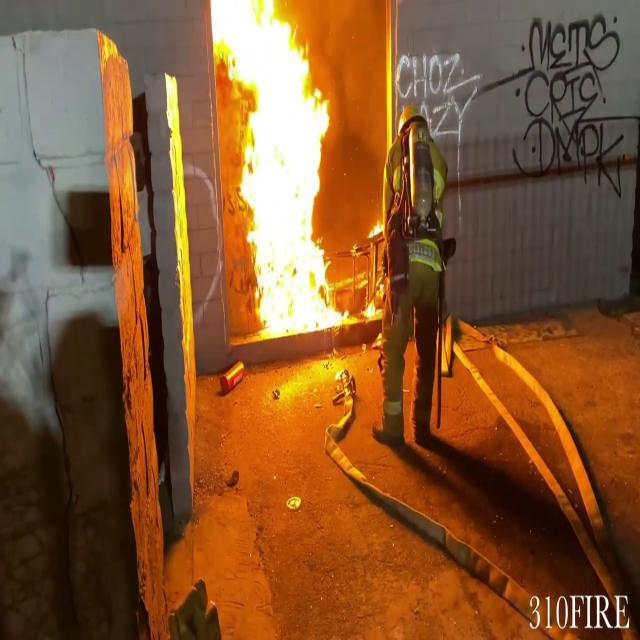Fire: (211, 0, 341, 331)
